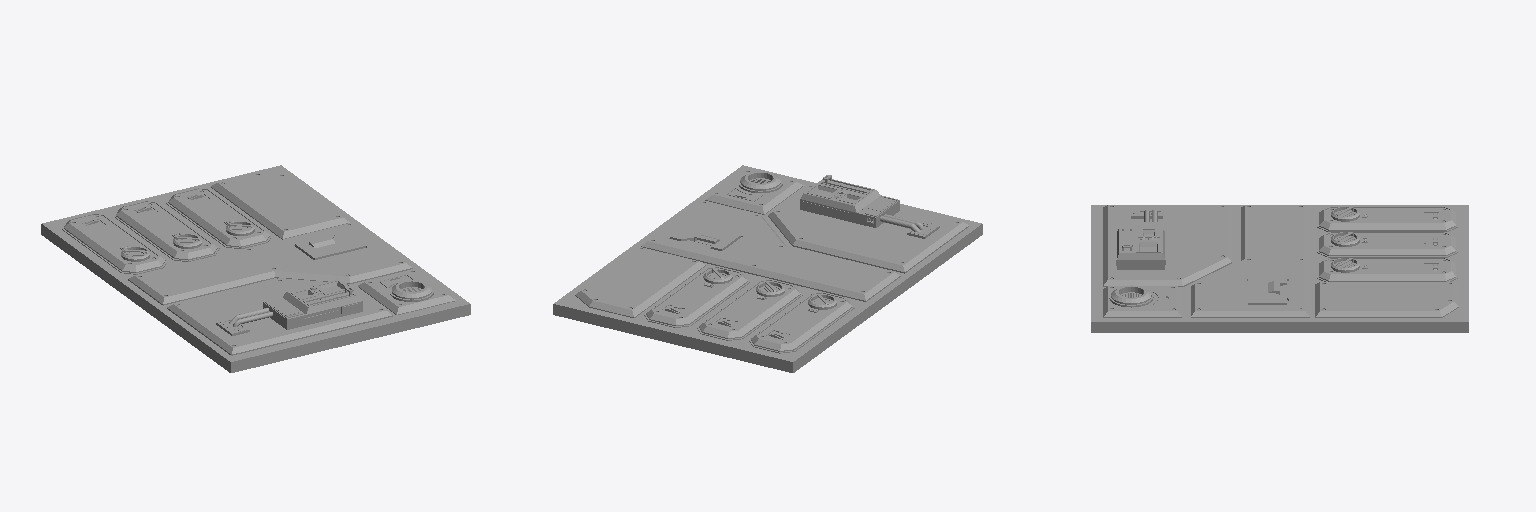
The model's file is s2_middle_panel_1.obj.
3 renders of one model, left to right at view 1: azimuth 30°, elevation 25°; view 2: azimuth 150°, elevation 25°; view 3: azimuth 270°, elevation 25°, orthographic.
Parts seen in each view (by area): view 1: mesh_0; view 2: mesh_0; view 3: mesh_0.
Part boxes in pixels (left/top/right/bottom): mesh_0: left=41, top=165, right=470, bottom=372; mesh_0: left=553, top=165, right=982, bottom=372; mesh_0: left=1091, top=205, right=1468, bottom=332.
Size of the model in its own units: 27.9 by 4.22 by 38.16.